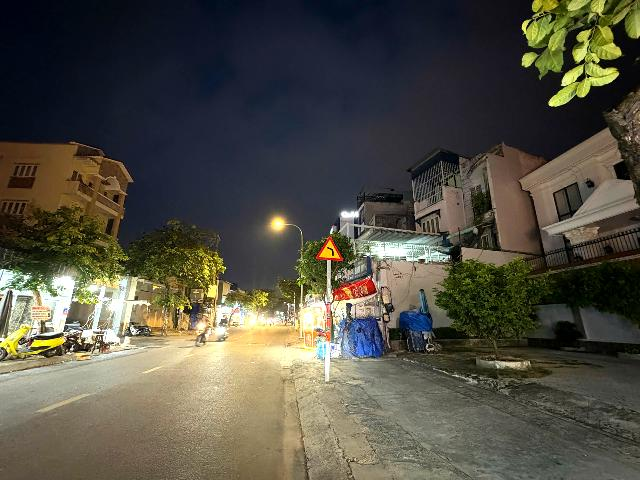cho-ngoat-nguy-hiem-ben-trai: (315, 235, 343, 261)
